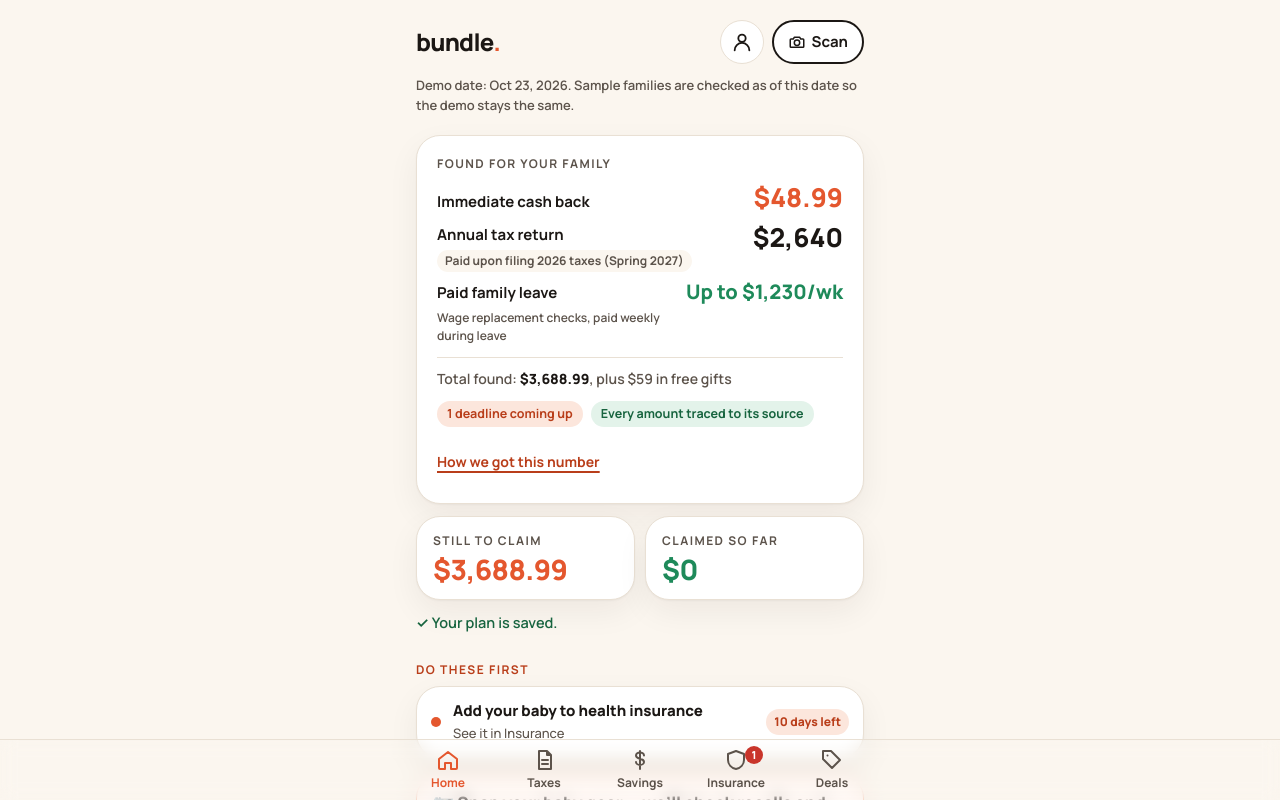
Test: Taxes: filing-status booster › "Not sure" keeps the range; "Not now" shrinks to a chip that brings the card back
Click the button "Taxes". click: [544, 770]
box: [496,740,592,799]
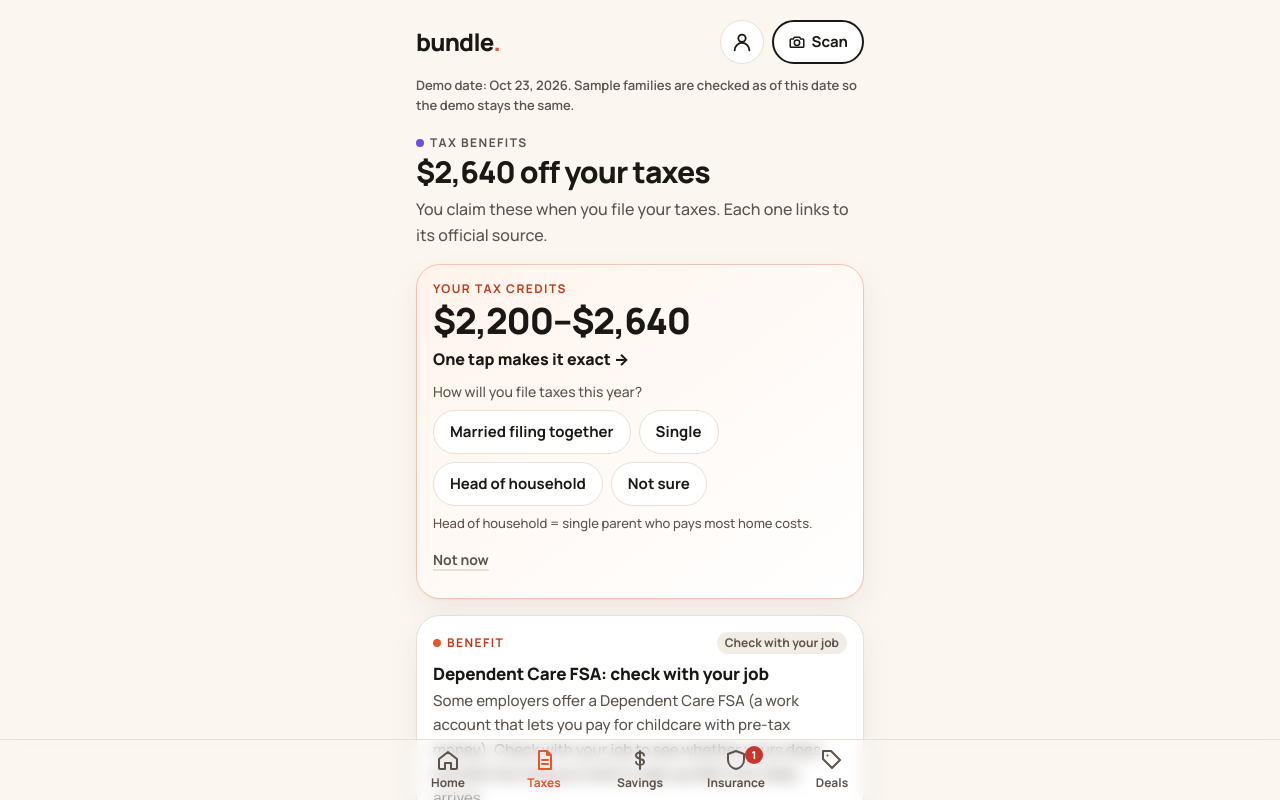
Click the button "Not sure". click: [659, 484]
box: [611,462,707,506]
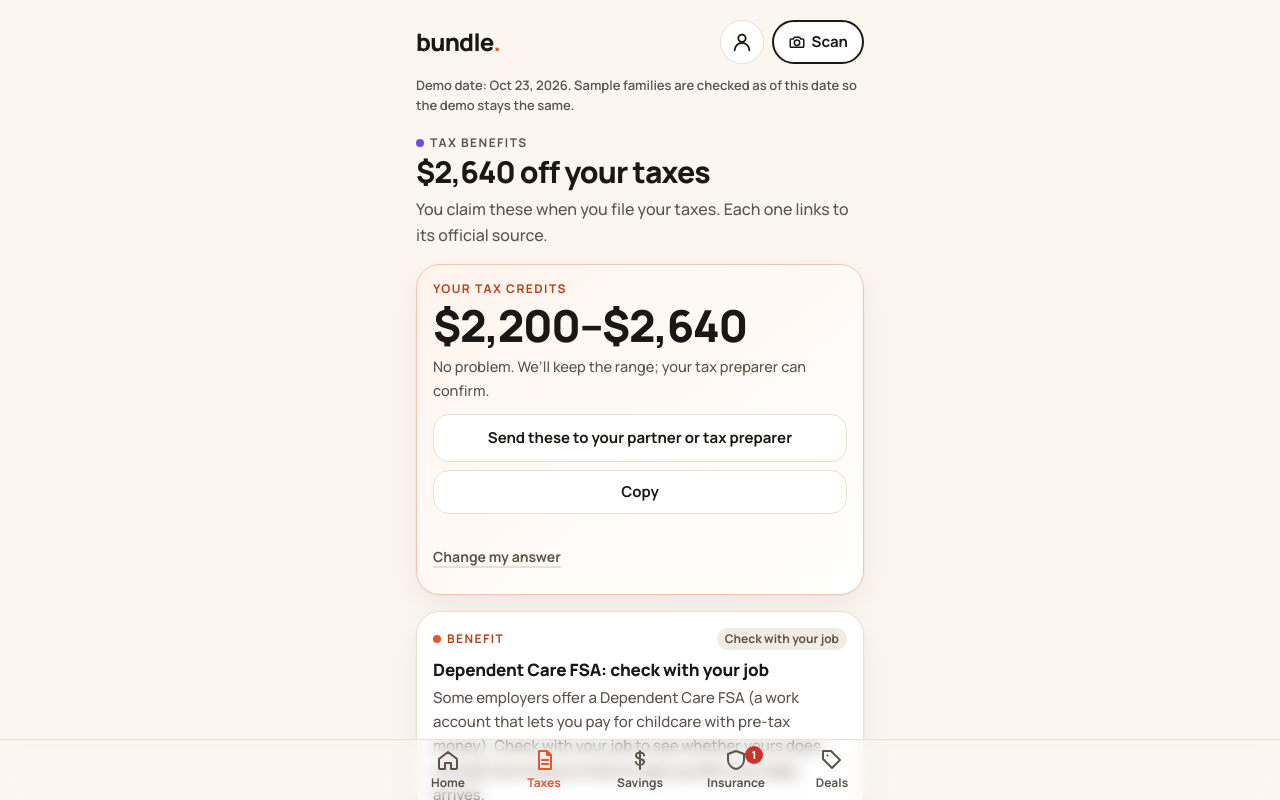
expect the element with test id "booster-taxes-result" shows "$2,200–$2,640": met, box [433,295,747,355]
Click the button "Change my answer". click: [497, 556]
box: [433,534,561,578]
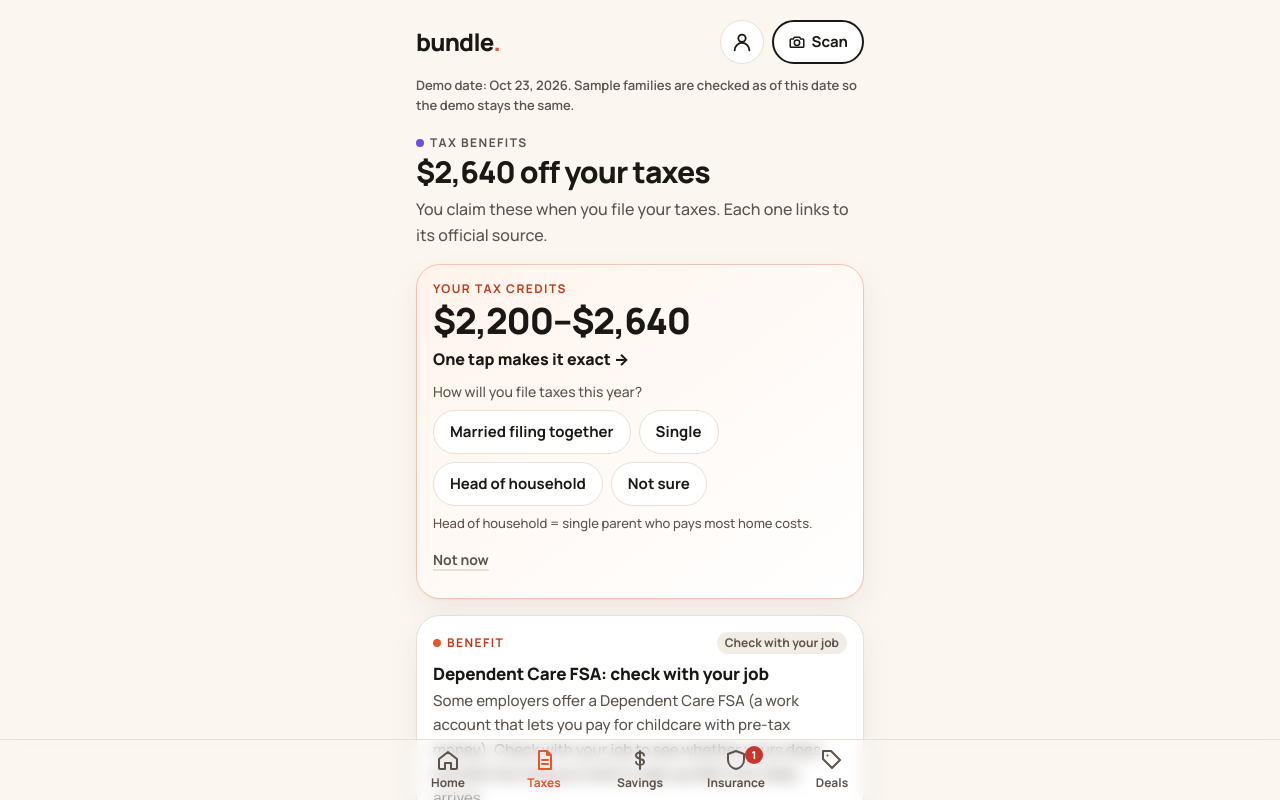
Click the button "Not now". click: [461, 560]
box: [433,538,489,582]
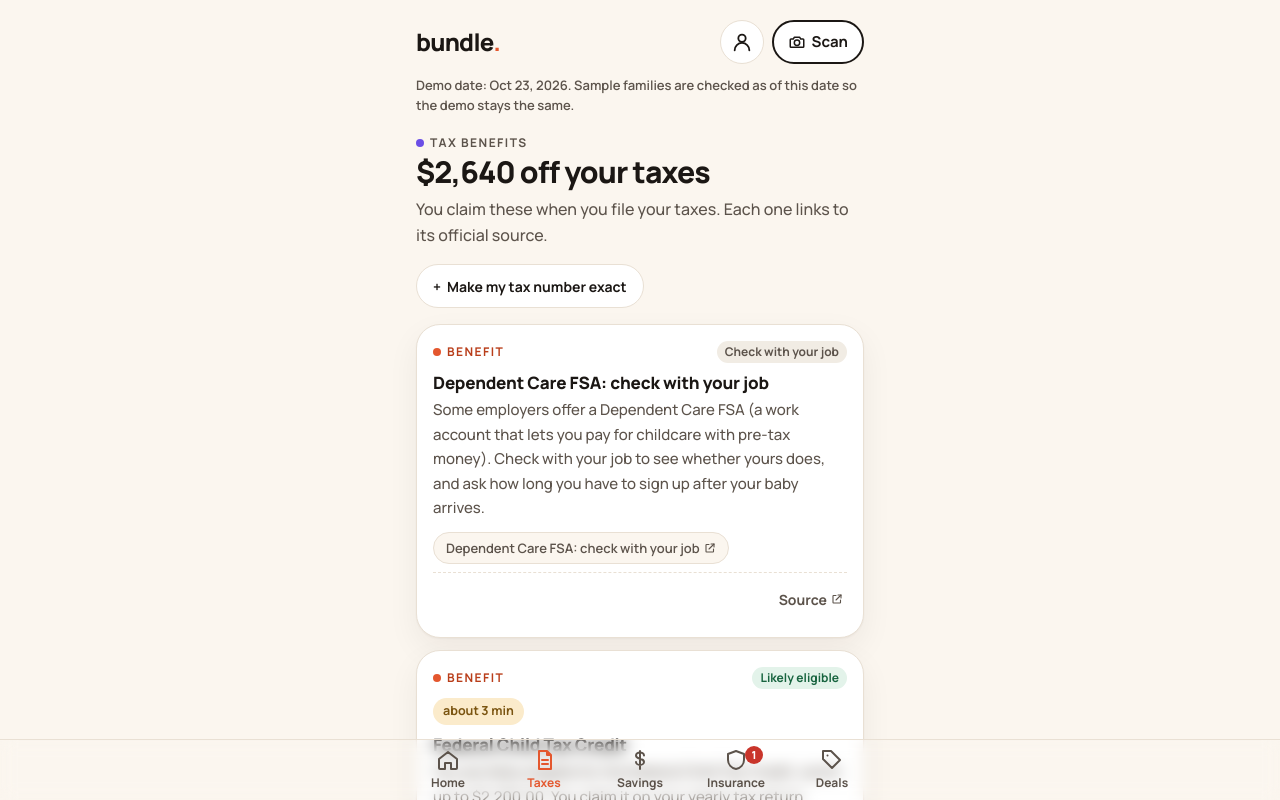
expect the element with test id "booster-taxes" is gone: met
Click the button with test id "booster-taxes-chip". click: [530, 286]
box: [416,264,644,308]
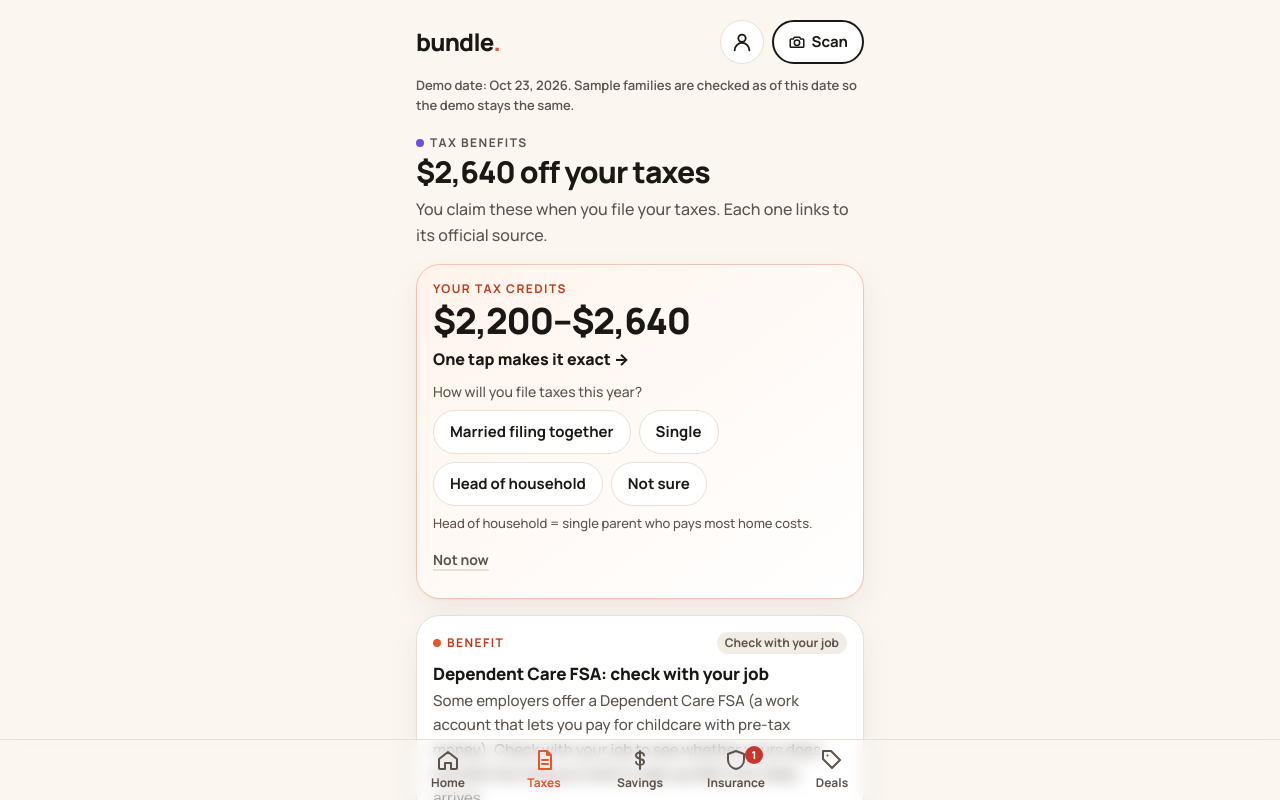
expect the element with test id "booster-taxes" is shown: met, box [416,264,864,598]
